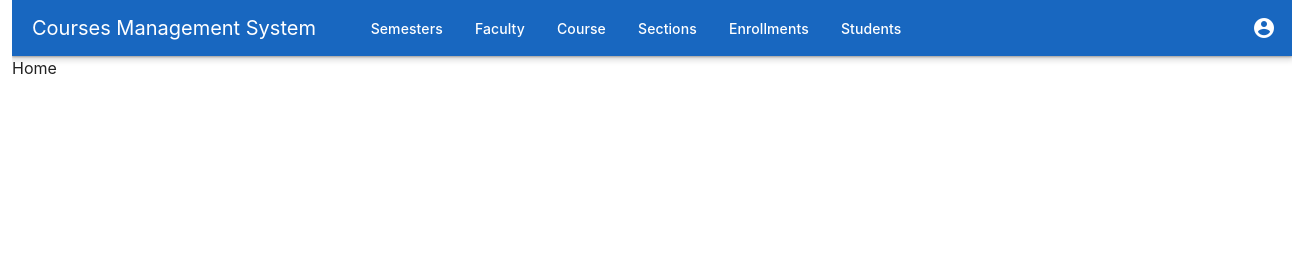
Test: Feature 4 — Faculty Management › US-4.1 — Select to work with Faculty › Menu Selection
This screenshot has width=1292, height=257.
Click the button "Faculty": [500, 28] box [459,10,541,46]
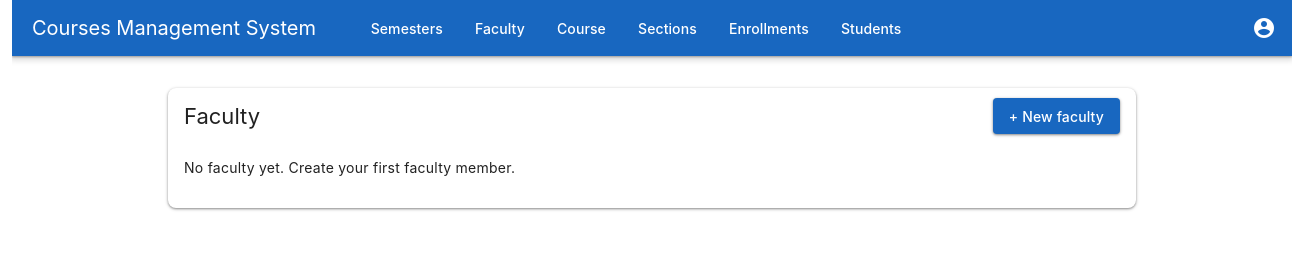
Expected: the text "Faculty" is shown, [475,20,525,36]
Now the element that starts with "Faculty" is shown, box [152,56,1152,240]
